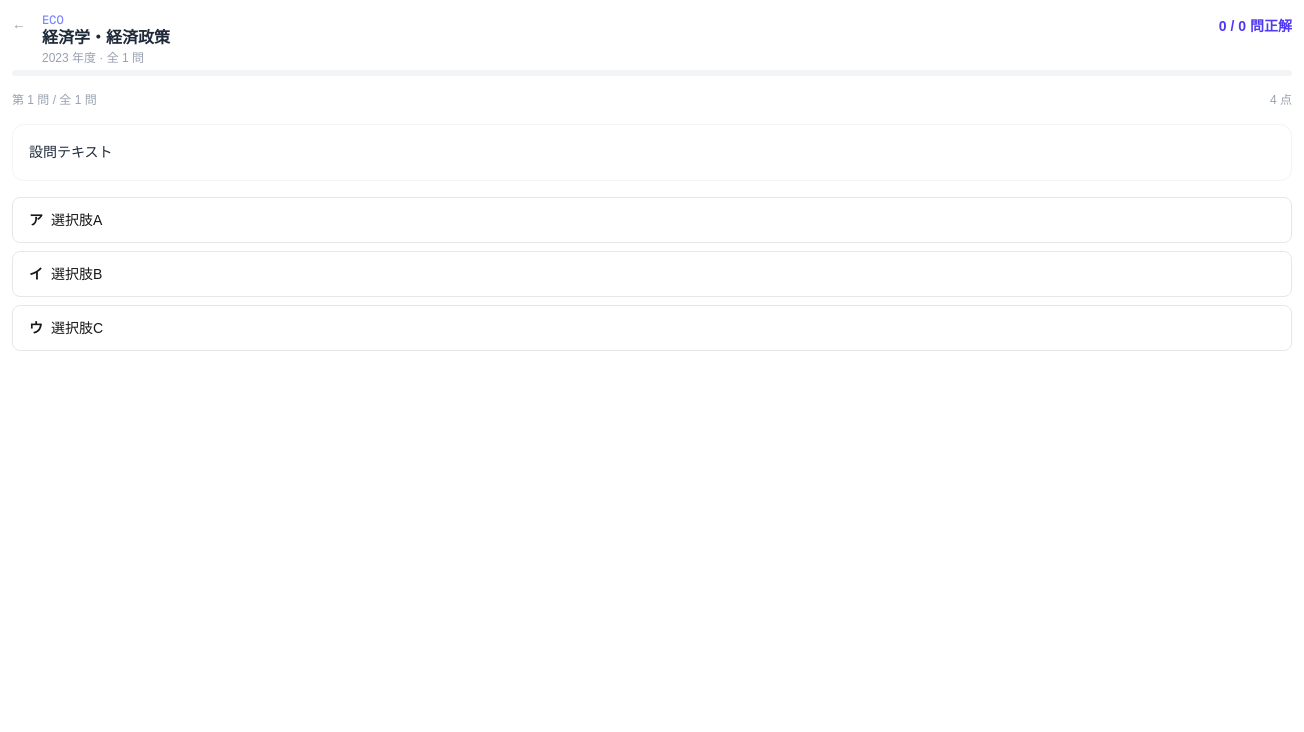
Scenario: QuizSession › 正解フロー › 自信度選択後に次へ進むボタンが表示される
The image size is (1304, 732).
Click the button "選択肢A".
click(77, 220)  # box x1=12 y1=197 x2=1292 y2=243
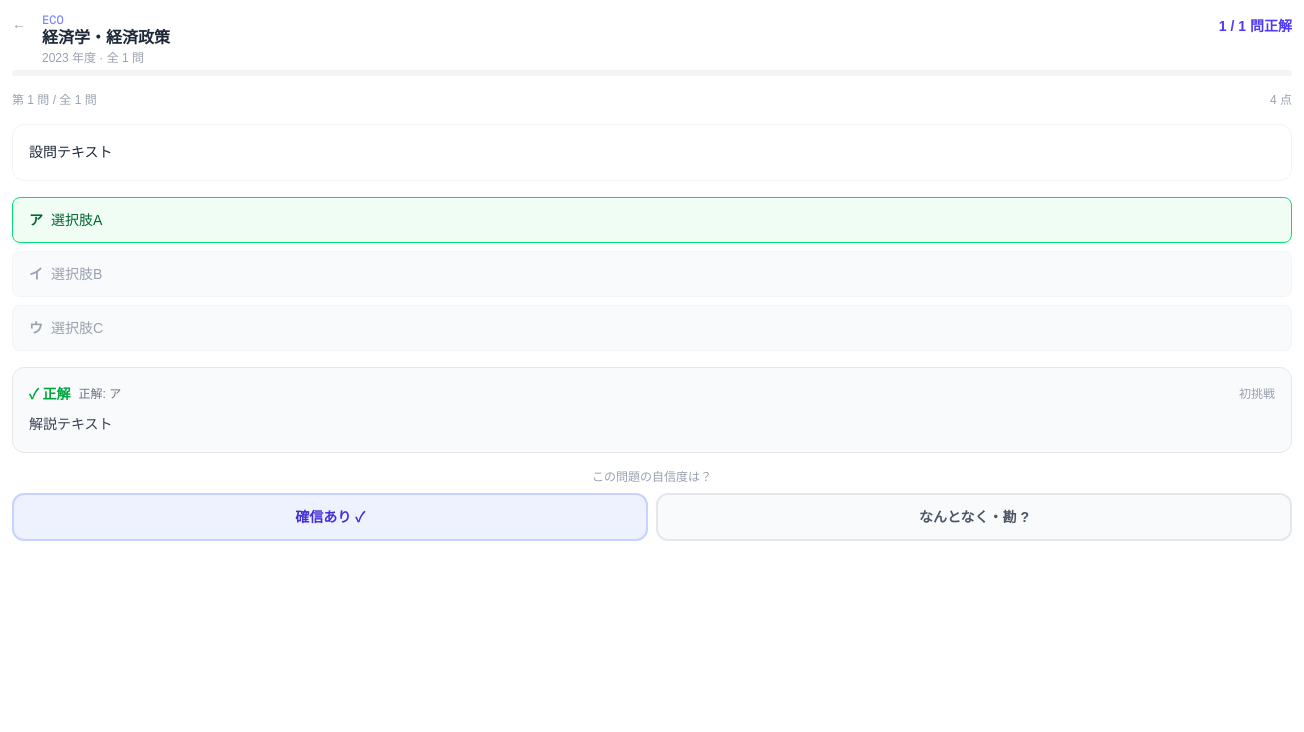
Click the button "確信あり ✓".
click(330, 517)  # box x1=12 y1=493 x2=648 y2=541
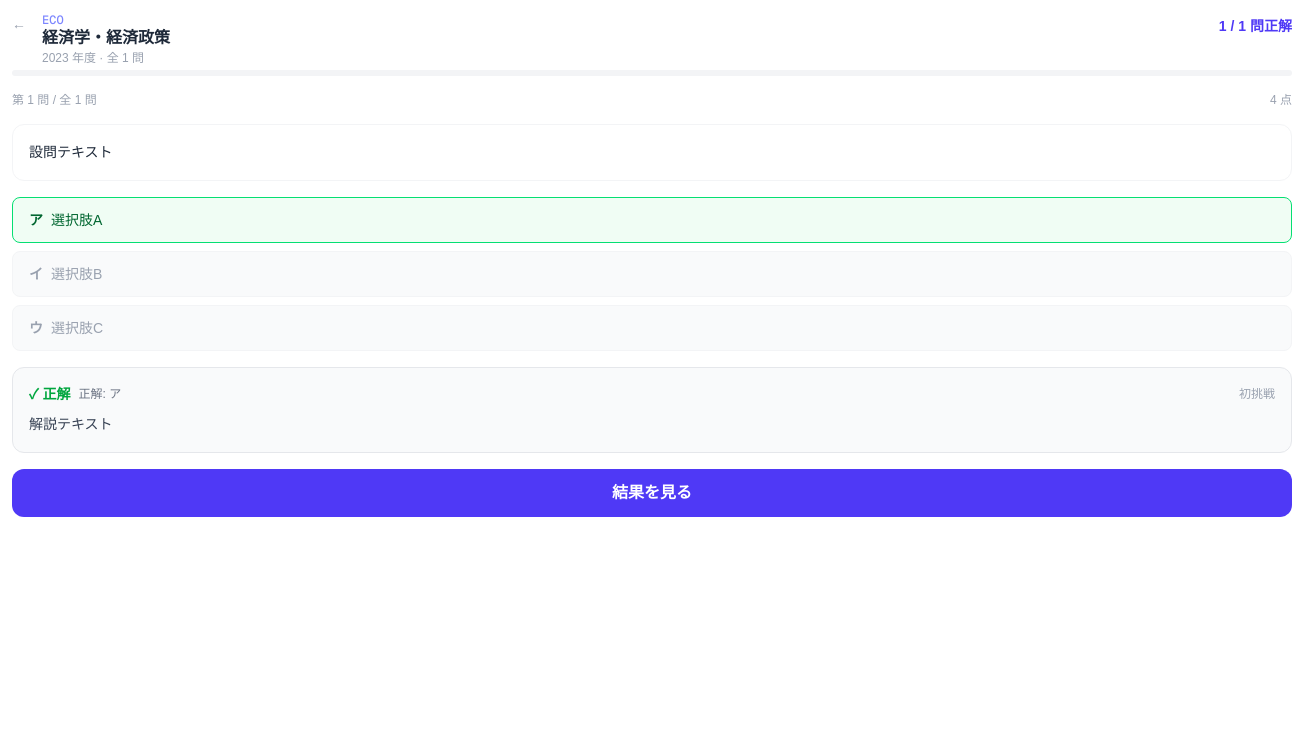
Result: the button "結果を見る" is shown at x1=12 y1=469 x2=1292 y2=517
